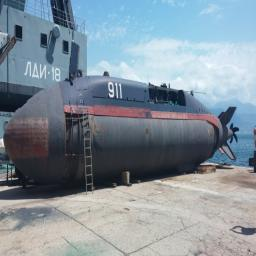submarine: (2, 72, 239, 196)
